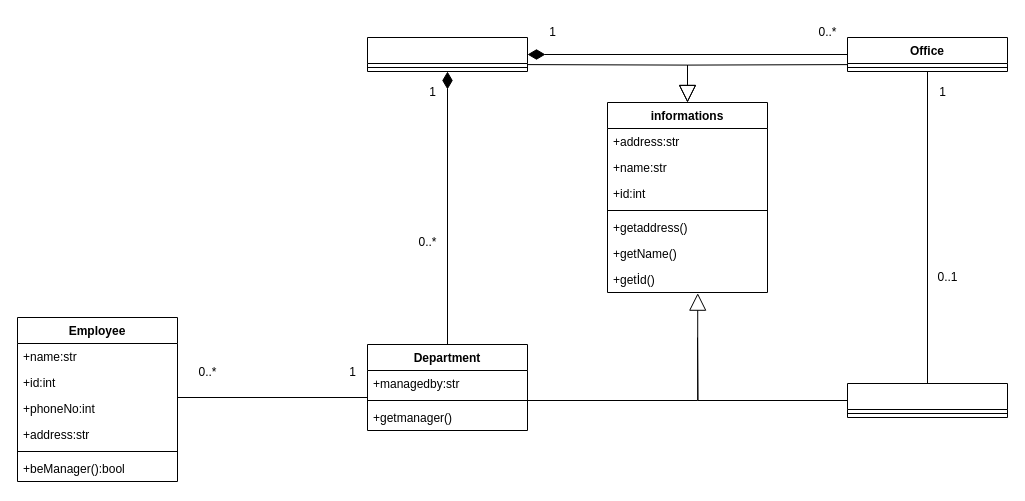
This 1025x501 diagram has some shape labels left out. Each missing label, with the box of its shape:
Company: (366, 36, 528, 72)
Headquarter: (846, 382, 1008, 418)
